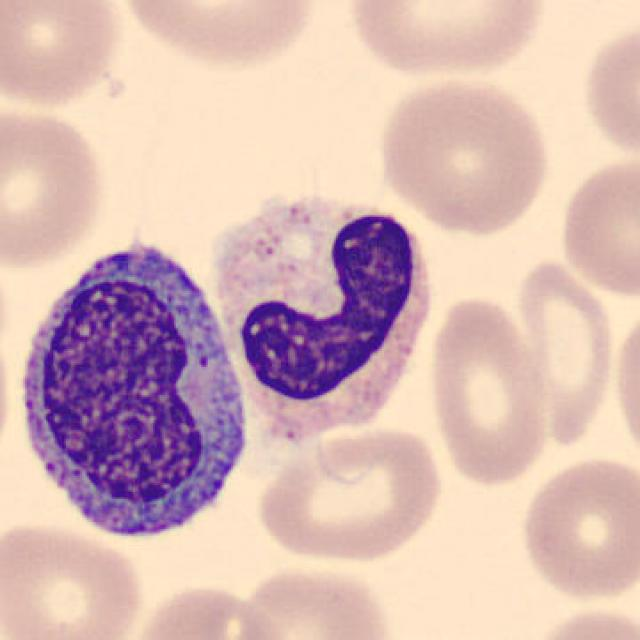Monocyte: (12, 227, 268, 555)
Neutrophil: (208, 180, 443, 450)
RBC: (372, 72, 554, 238), (252, 420, 448, 568), (423, 291, 555, 490), (508, 254, 620, 453), (0, 100, 110, 274), (514, 452, 638, 606), (0, 518, 146, 640), (338, 0, 551, 83), (112, 0, 322, 72), (0, 0, 128, 113), (234, 560, 398, 640), (555, 154, 638, 302), (121, 580, 293, 640), (578, 12, 638, 170), (608, 301, 640, 469), (519, 603, 638, 640)
